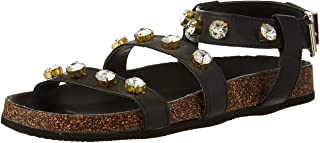shoes: (1, 1, 318, 143)
